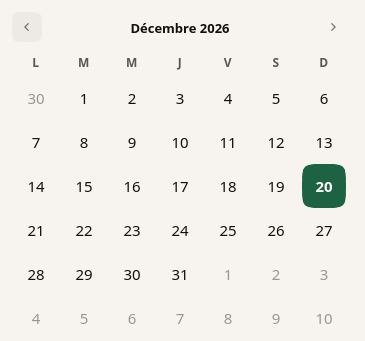
Test: Calendar › passe d'une année à l'autre en décembre
The width and height of the screenshot is (365, 341).
Click the button named "Mois suivant": [333, 27] box x1=318 y1=12 x2=348 y2=42
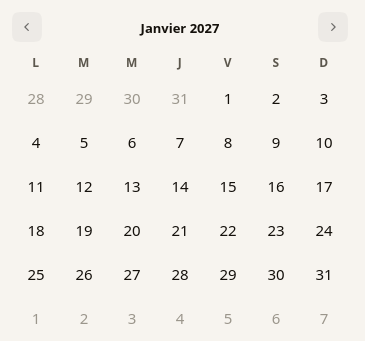
Expected: the text "Janvier 2027" is shown, x1=141 y1=19 x2=219 y2=37
